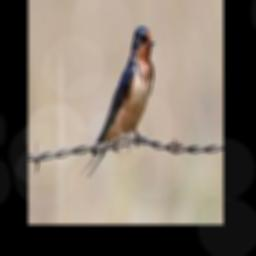Swallow: (79, 26, 155, 175)
